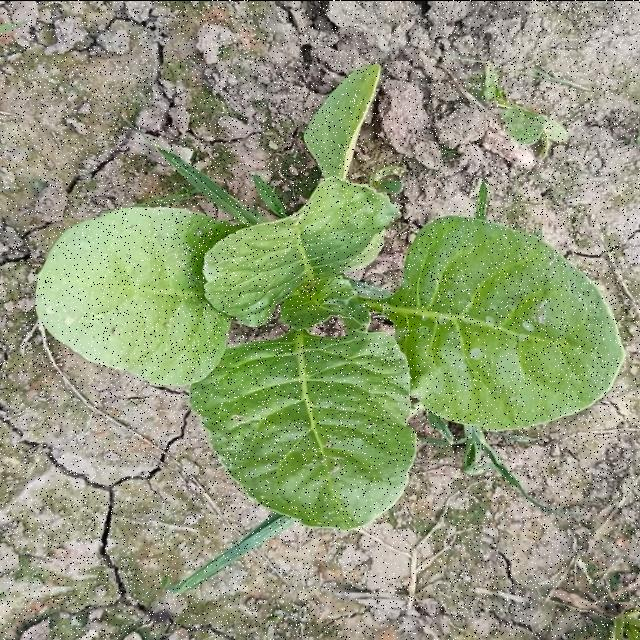plant: (36, 65, 622, 529)
